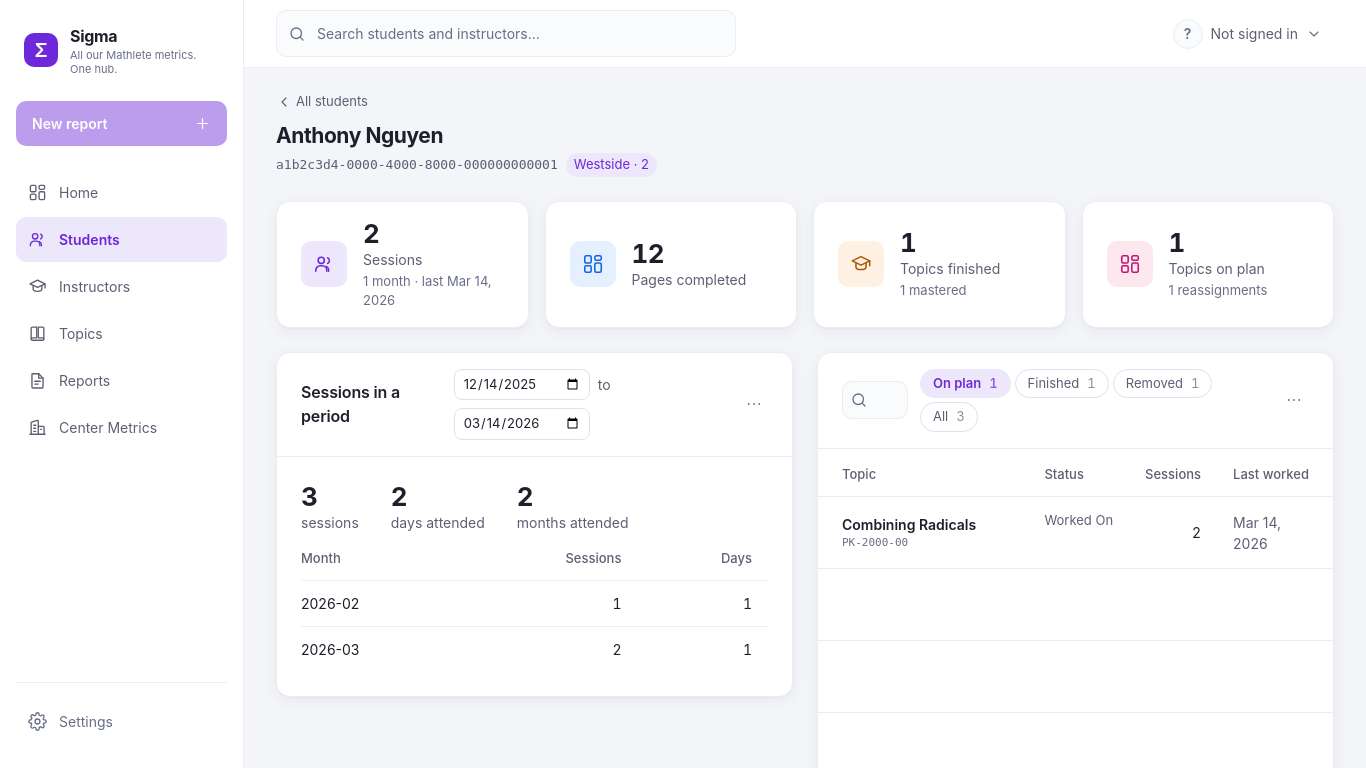
Test: student profile › blocks an impossible period instead of collecting the API 400
The image size is (1366, 768).
Type "2026-06-01" into the date field named "Period start".
click(522, 384); type("2026-06-01")  # box [454,369,590,400]
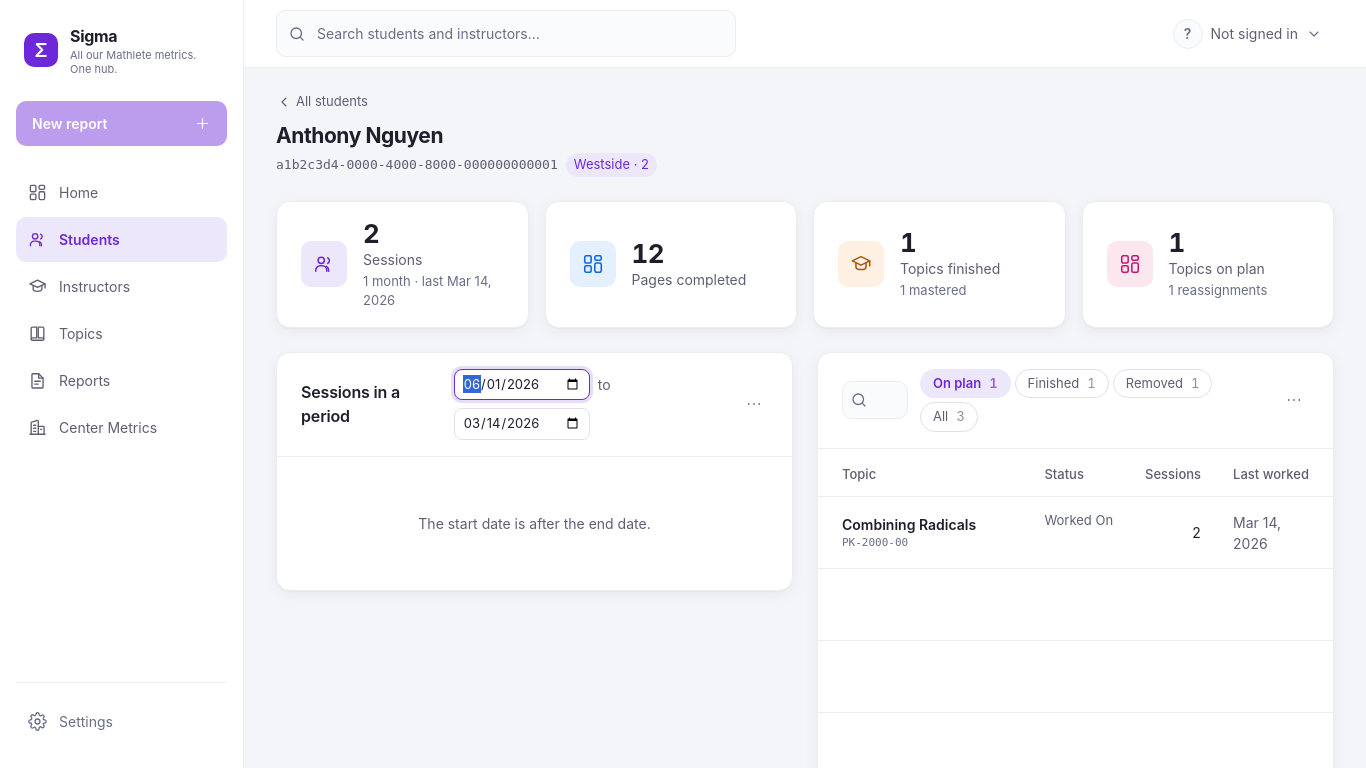
Result: the text "The start date is after the end date." is shown at [418,515,651,532]
